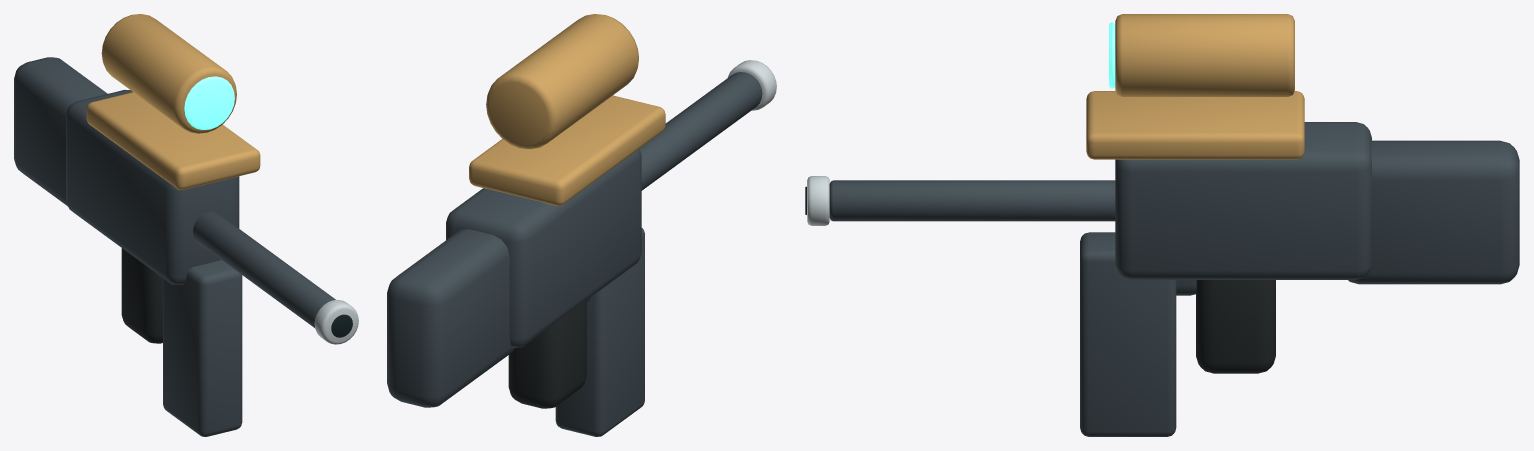
Rendered from ap_rifle.t1.glb.
3 views of the same model, side by side, from view 1: azimuth 30°, elevation 25°; view 2: azimuth 150°, elevation 25°; view 3: azimuth 270°, elevation 25° (orthographic). The views are drawn at different scales.
Parts seen in each view (by area): view 1: weapon_right__forged_bluelead_steel__protected, weapon_right__worn_warm_brass__protected, weapon_right__charcoal_rubber__protected, weapon_right__mint_reticle__protected, weapon_right__honed_steel_edge__protected, weapon_right__eye_socket__protected; view 2: weapon_right__forged_bluelead_steel__protected, weapon_right__worn_warm_brass__protected, weapon_right__charcoal_rubber__protected, weapon_right__honed_steel_edge__protected; view 3: weapon_right__forged_bluelead_steel__protected, weapon_right__worn_warm_brass__protected, weapon_right__charcoal_rubber__protected, weapon_right__honed_steel_edge__protected.
Part boxes in pixels (bbox=[...]): weapon_right__forged_bluelead_steel__protected: bbox=[14, 57, 335, 436]; weapon_right__worn_warm_brass__protected: bbox=[86, 14, 260, 189]; weapon_right__charcoal_rubber__protected: bbox=[121, 248, 162, 343]; weapon_right__mint_reticle__protected: bbox=[184, 76, 234, 129]; weapon_right__honed_steel_edge__protected: bbox=[314, 300, 358, 344]; weapon_right__eye_socket__protected: bbox=[331, 314, 352, 337]; weapon_right__forged_bluelead_steel__protected: bbox=[387, 72, 762, 436]; weapon_right__worn_warm_brass__protected: bbox=[469, 14, 665, 205]; weapon_right__charcoal_rubber__protected: bbox=[508, 300, 586, 408]; weapon_right__honed_steel_edge__protected: bbox=[727, 60, 776, 110]; weapon_right__forged_bluelead_steel__protected: bbox=[829, 122, 1519, 436]; weapon_right__worn_warm_brass__protected: bbox=[1086, 14, 1304, 159]; weapon_right__charcoal_rubber__protected: bbox=[1196, 280, 1275, 373]; weapon_right__honed_steel_edge__protected: bbox=[807, 176, 829, 225].
Bounding box in the file's own units: 0.1383 × 0.557 × 0.8793.
